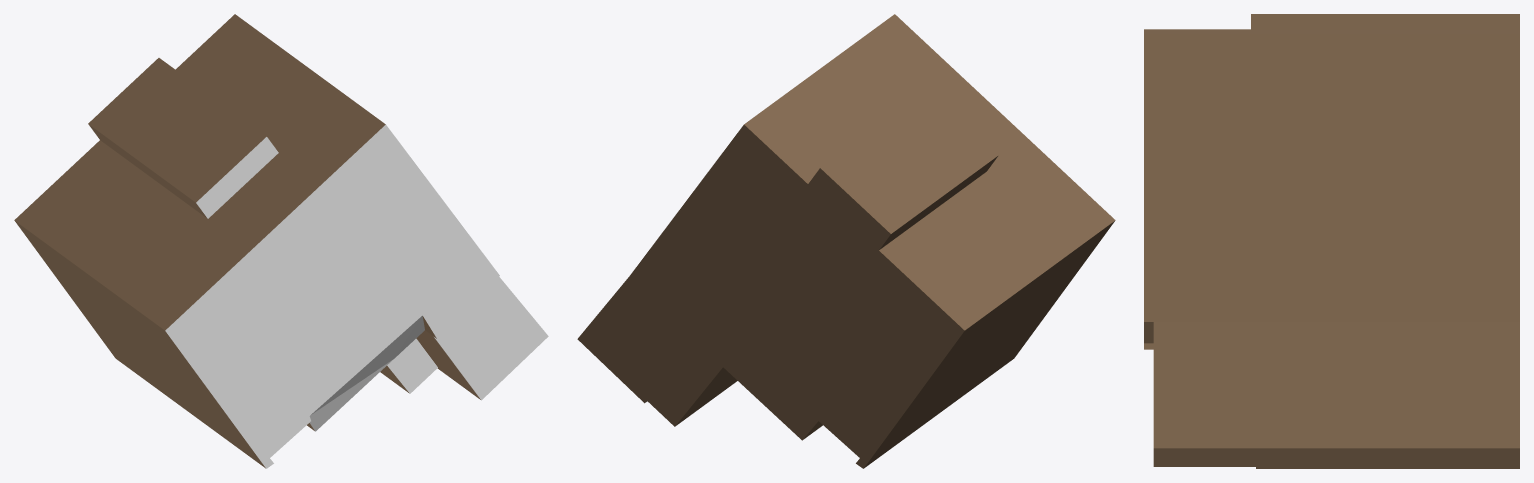
3 views of the same model, side by side, from view 1: azimuth 30°, elevation 25°; view 2: azimuth 150°, elevation 25°; view 3: azimuth 270°, elevation 25° (orthographic). The views are drawn at different scales.
Parts seen in each view (by area): view 1: City_1565350; view 2: City_1565350; view 3: City_1565350.
Boxes of the visible parts, x1=… form: City_1565350: x1=14, y1=14, x2=548, y2=468; City_1565350: x1=577, y1=14, x2=1115, y2=468; City_1565350: x1=1144, y1=14, x2=1519, y2=468.
Bounding box in the file's own units: 1944 × 1532 × 1311.
